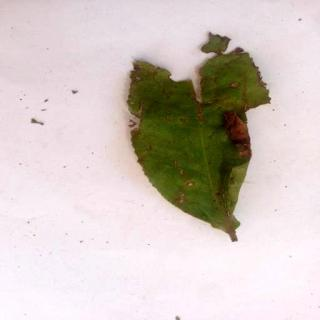Brown Blight: (126, 34, 274, 242)
